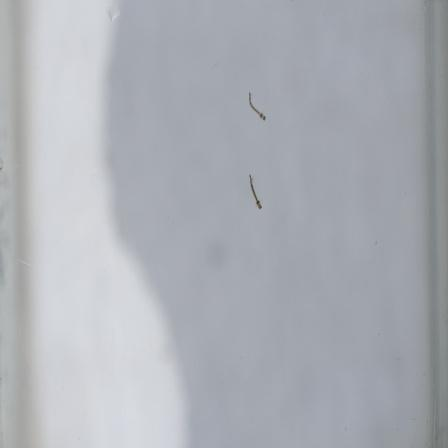Jentik-Nyamuk: (244, 173, 266, 215), (243, 90, 270, 123)
